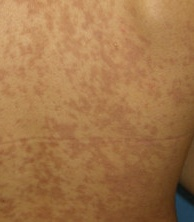SJS-TEN: (0, 0, 190, 222)
